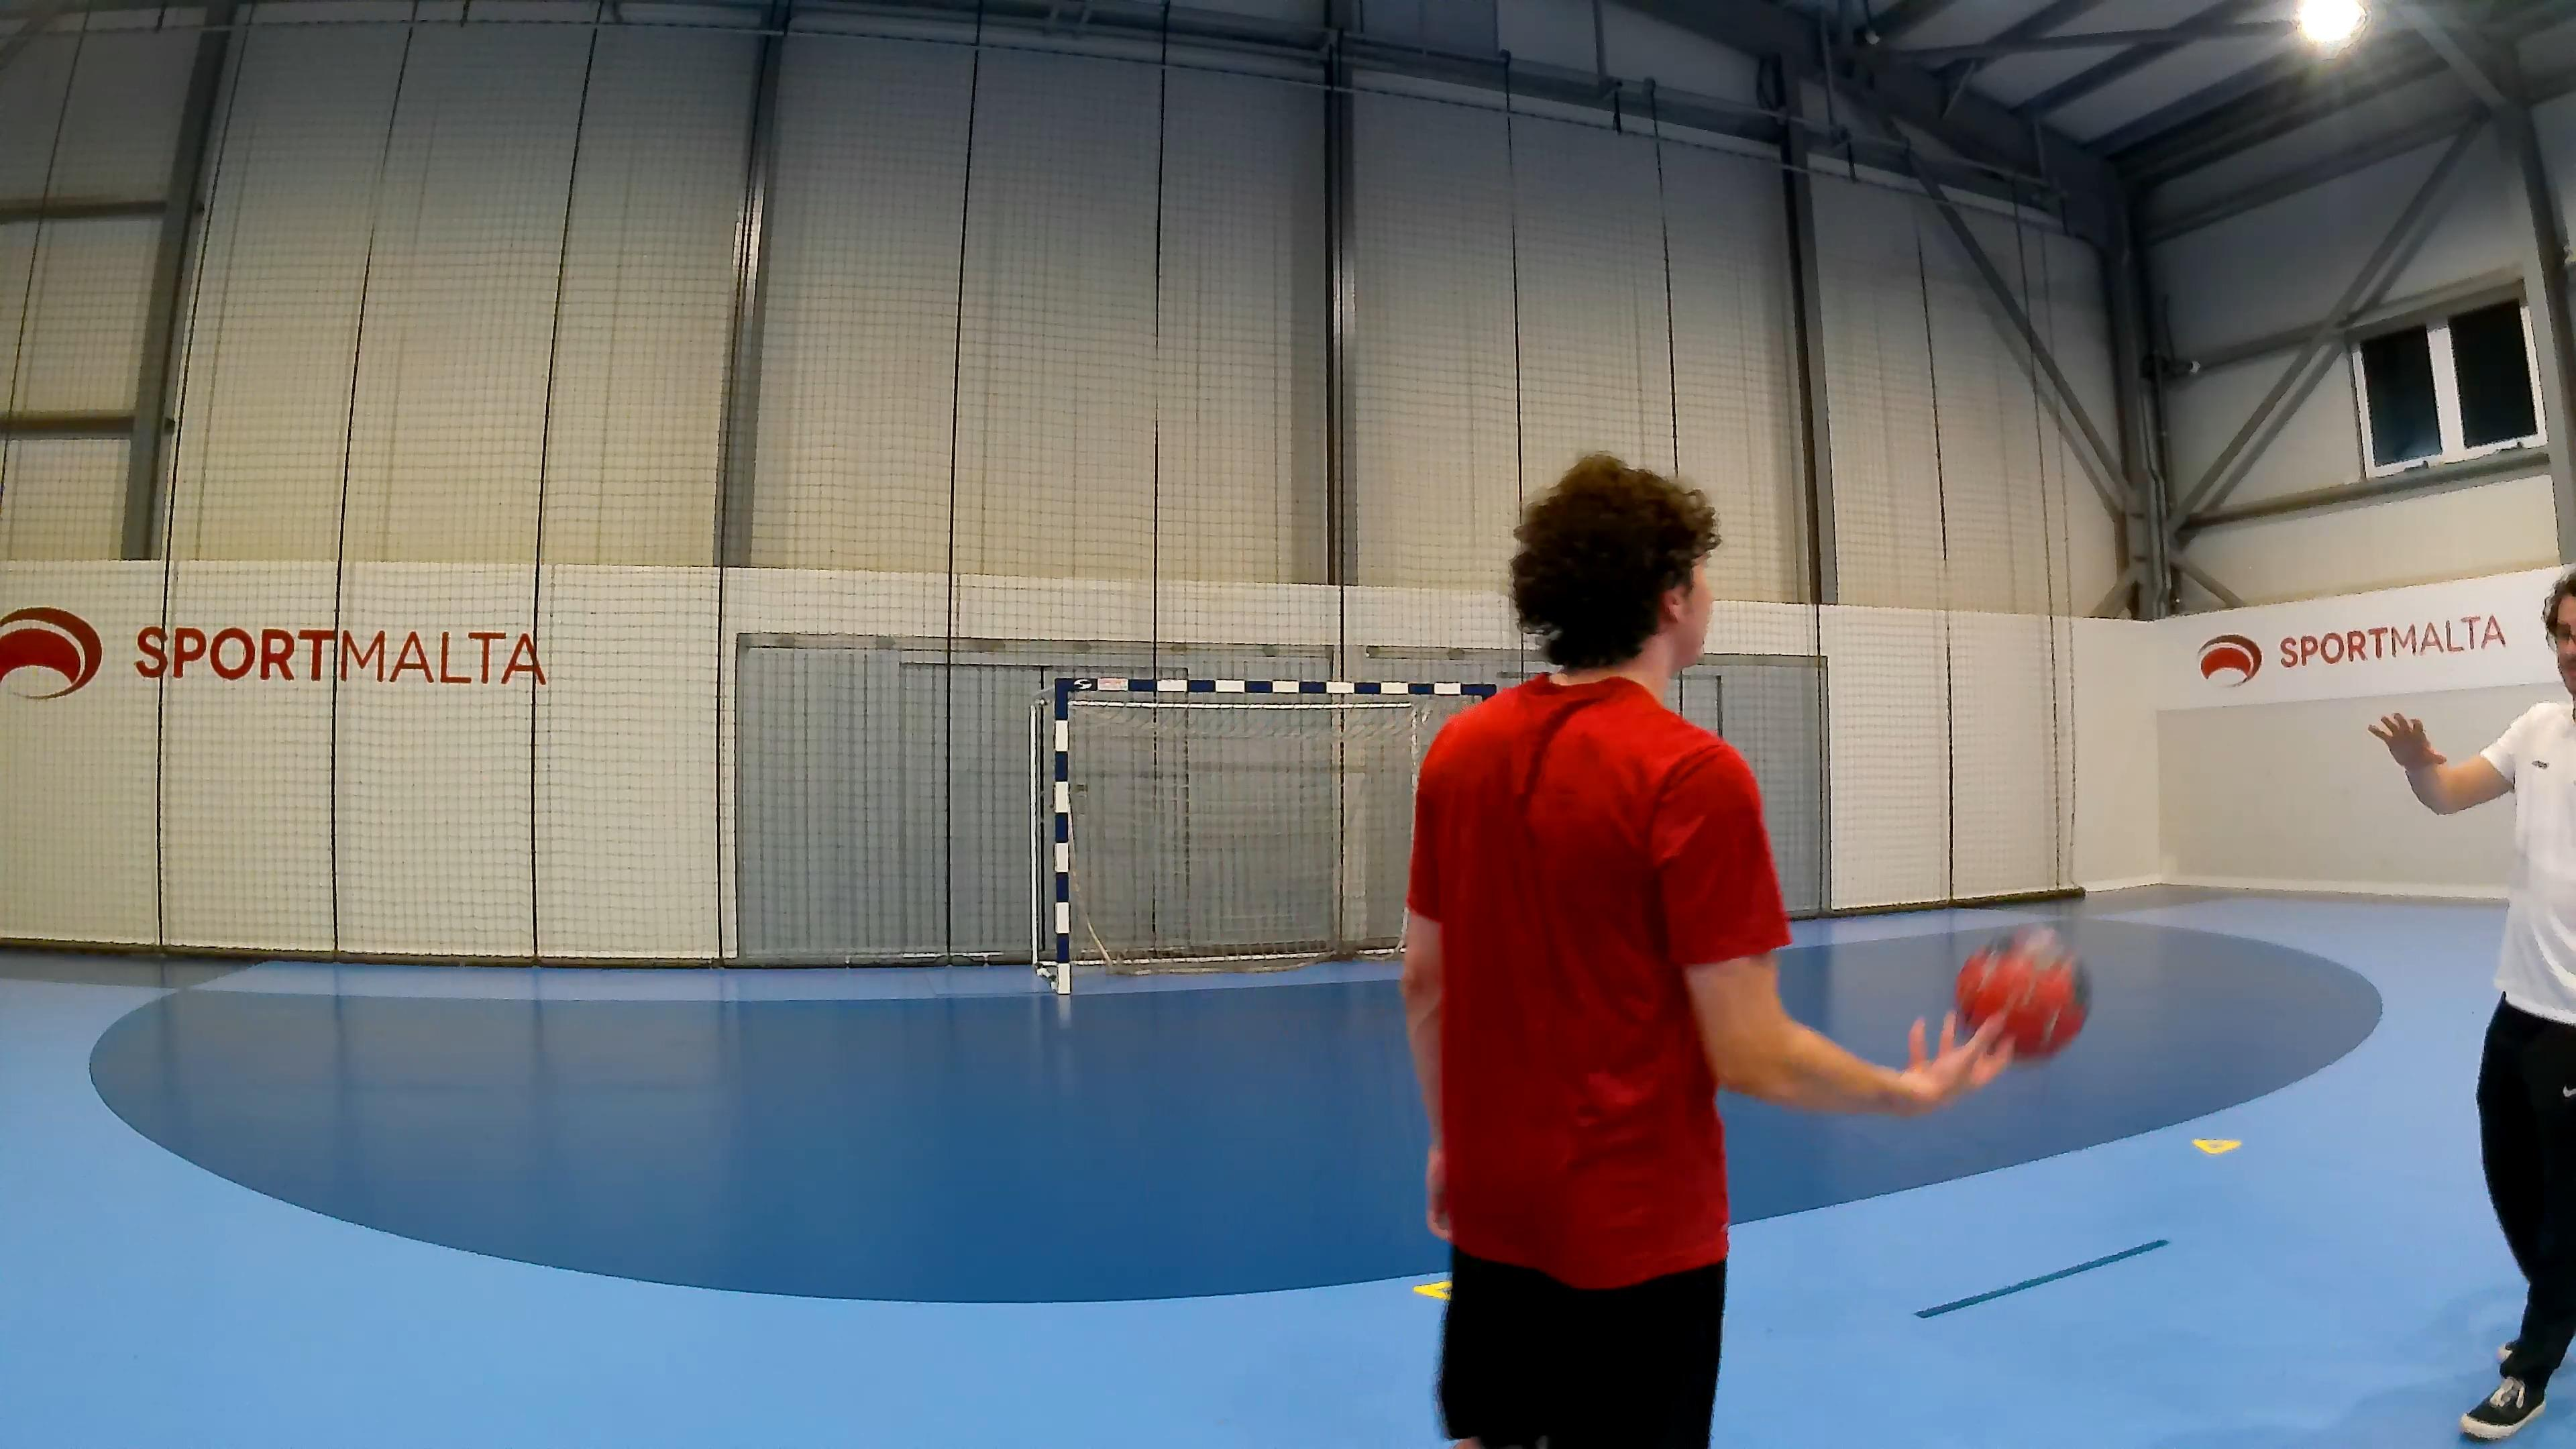handball: (1951, 922, 2091, 1060)
